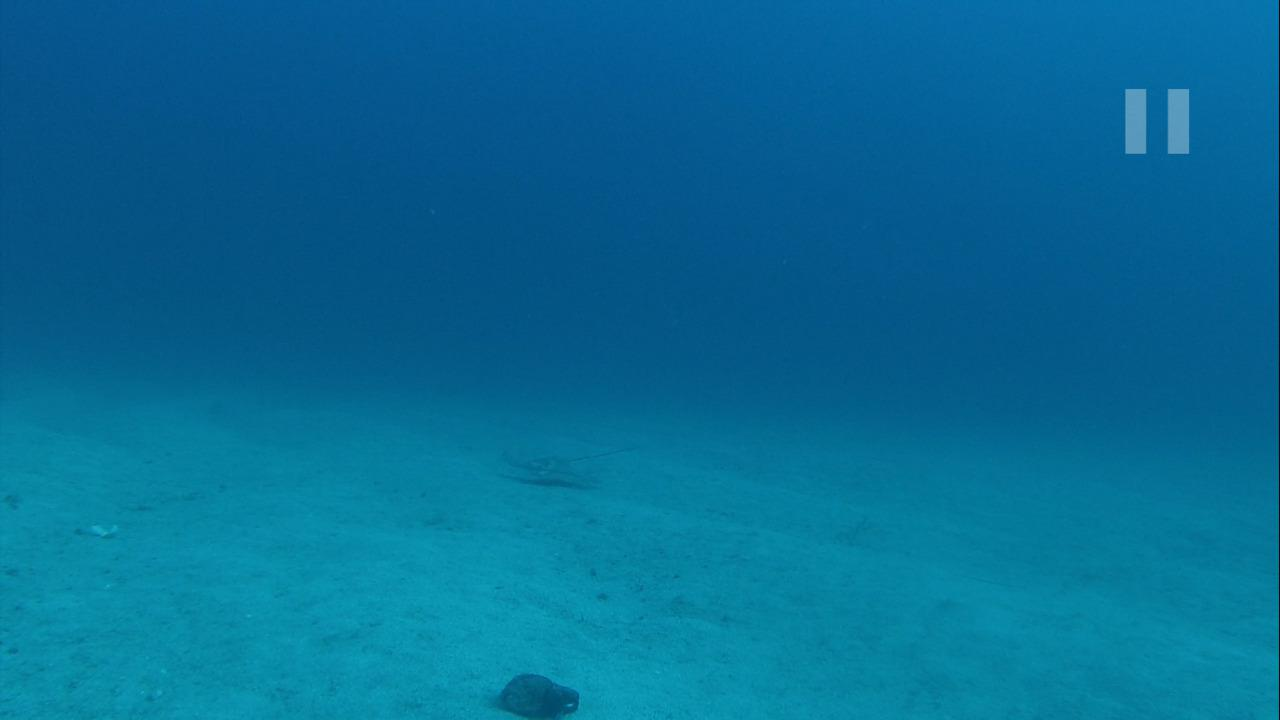myliobatis: (484, 441, 636, 489)
